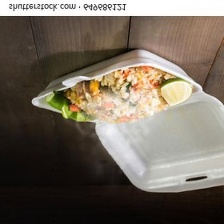foam_box: (24, 43, 224, 199)
